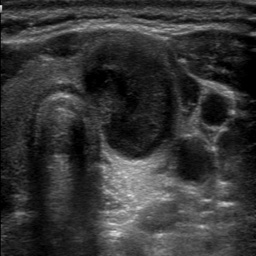mass: (85, 39, 174, 152)
